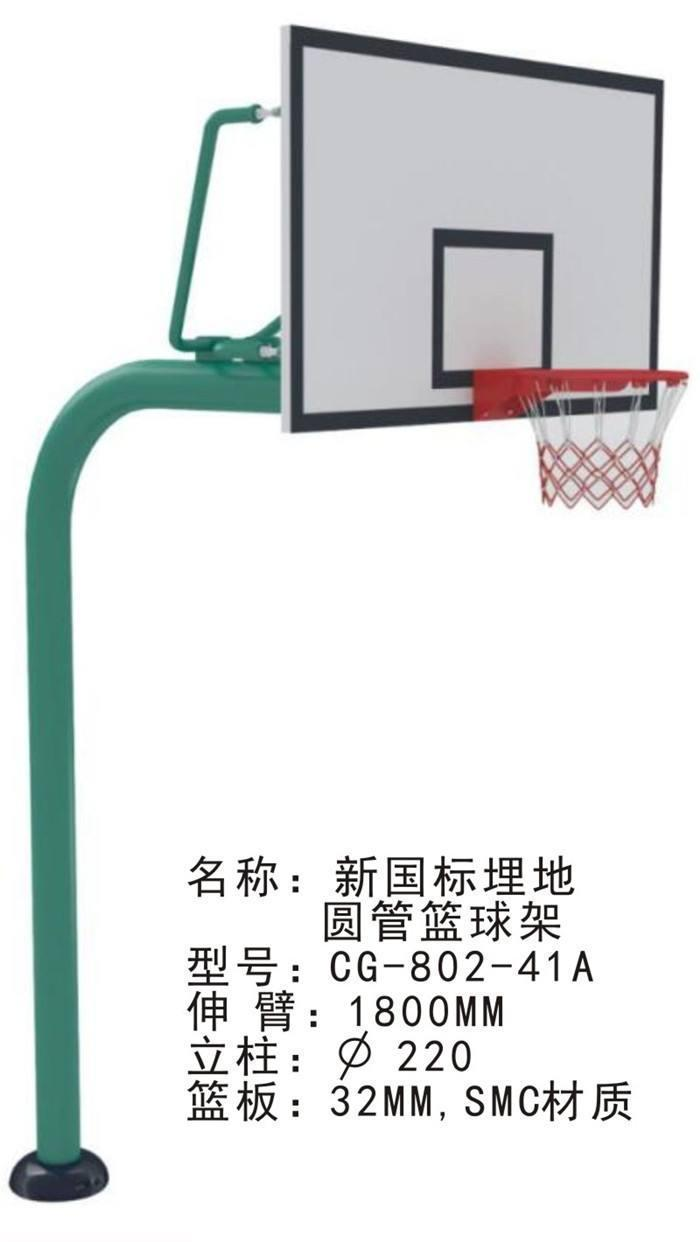rim: (507, 368, 695, 504)
